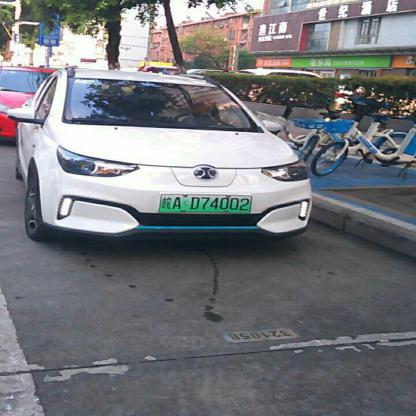lp: (158, 194, 252, 212)
